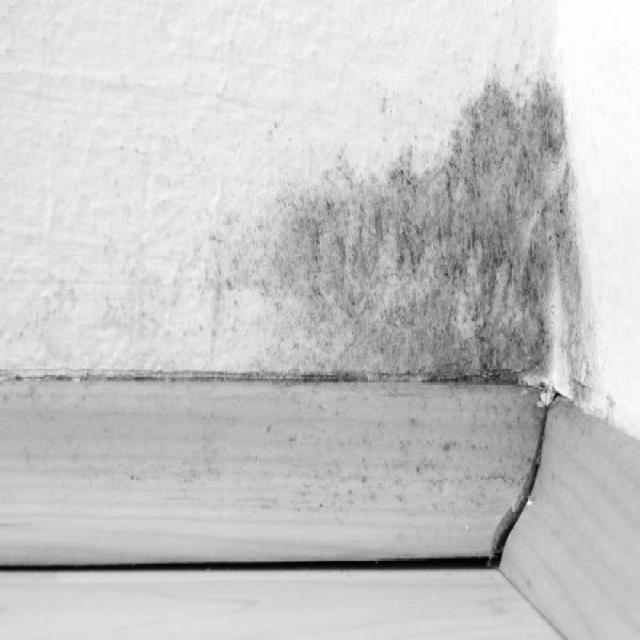stain marks: (115, 35, 629, 402)
